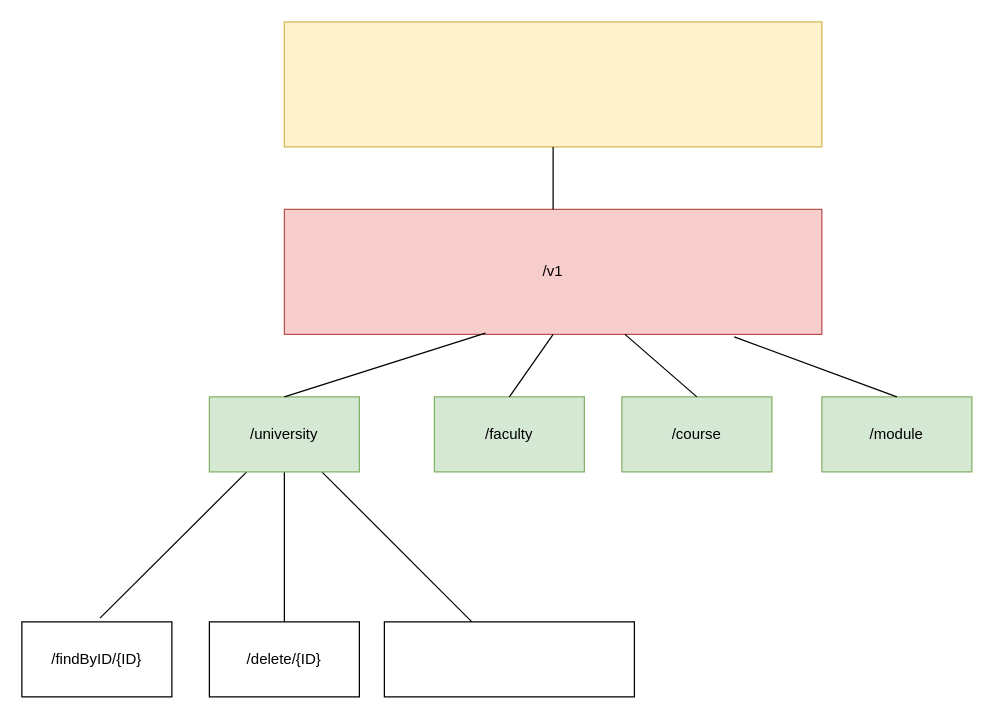
Image size: 994x719. Some labels were removed from this diagram. The shapes that lost their labels are listed below. From the top down, each one's box as (x1, y1, x2, y2) in pixels, then its label:
(283, 21, 822, 147): /api
(383, 621, 634, 697): /findUniversityByName
